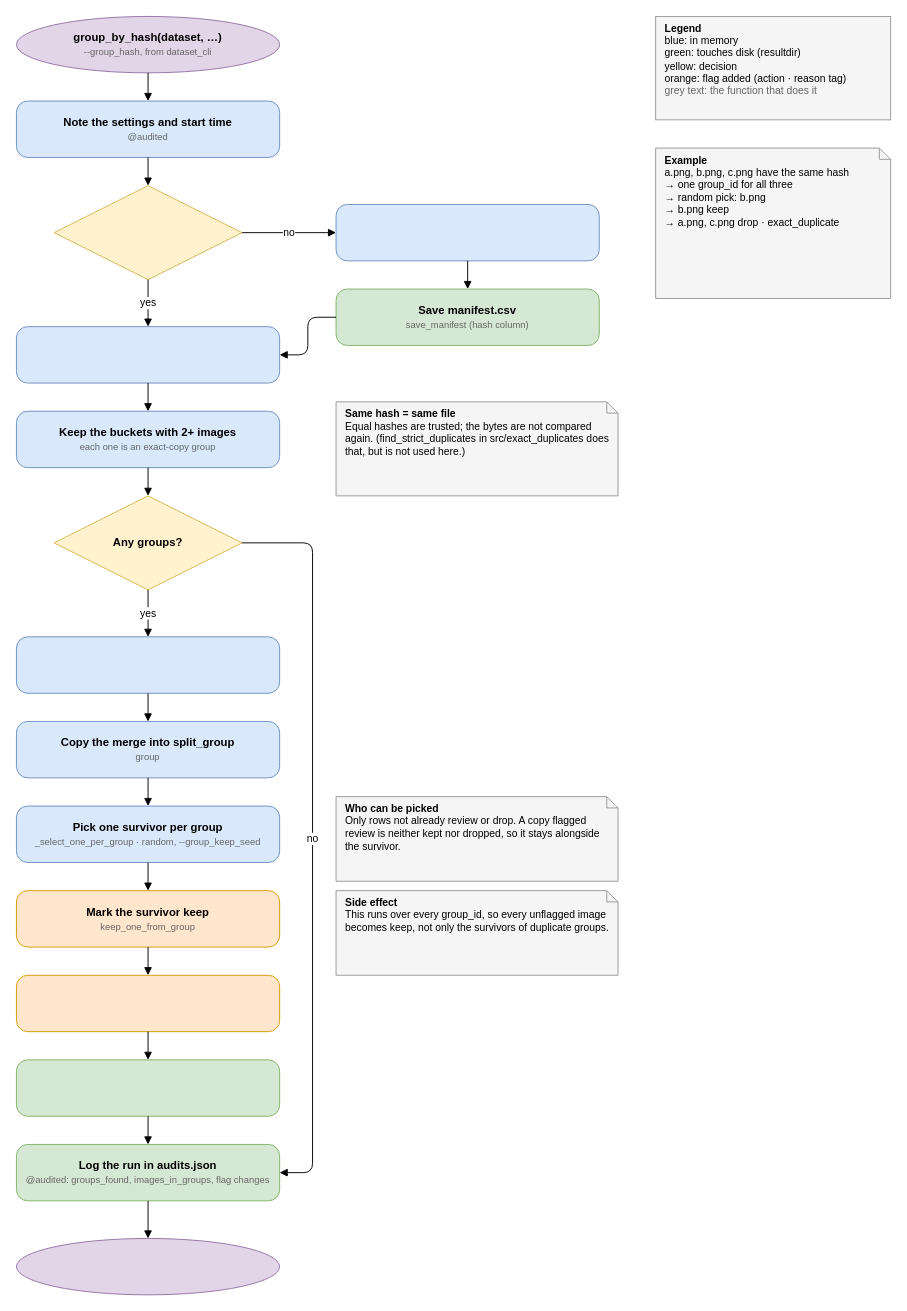
Some shapes in this 907 by 1311 pixel diagram are drawn without their labels. Here are the shapes that lost their labels. From the top down, the box of each, then its label:
(53, 185, 242, 280): Files already hashed? has_hash
(335, 204, 599, 261): Hash every file's bytes make_hashes · blake2b, 64 KB chunks
(16, 326, 280, 383): Bucket the rows not dropped by hash dataset.df.groupby('hash')
(16, 636, 280, 693): Give each group one new group_id group · union-find, uuid4
(16, 974, 280, 1032): Mark the other copies drop · exact_duplicate keep_one_from_group
(16, 1059, 280, 1116): Save manifest.csv save_manifest
(16, 1238, 280, 1295): Back to dataset_cli
